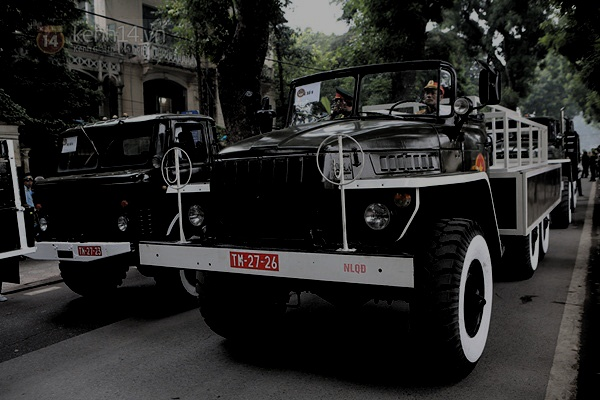plate: (229, 249, 286, 275), (73, 242, 109, 258)
